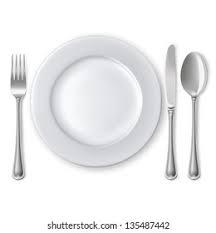Knife: (164, 43, 177, 179)
